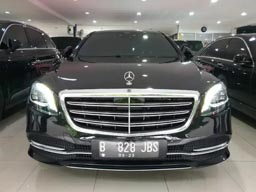plat: (96, 141, 162, 154)
